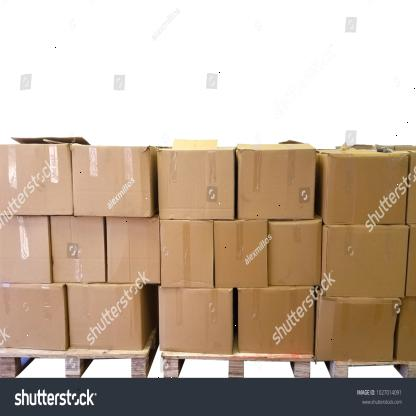box: (324, 148, 410, 224), (322, 226, 409, 297), (157, 147, 235, 221), (72, 146, 151, 218), (238, 148, 317, 220), (238, 288, 316, 356), (0, 145, 73, 216), (316, 298, 399, 360), (158, 287, 233, 354), (66, 284, 142, 350), (0, 285, 65, 349), (50, 216, 106, 283), (214, 220, 268, 288), (161, 220, 214, 288), (107, 217, 161, 283), (268, 220, 322, 286), (0, 216, 52, 284)
